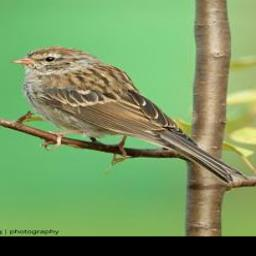Sparrow: (10, 44, 249, 187)
